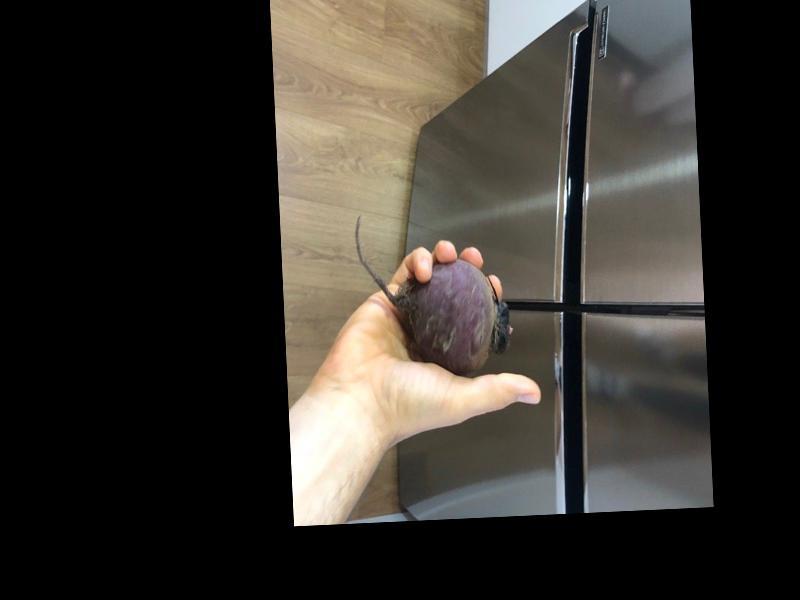Beet: (355, 207, 514, 380)
